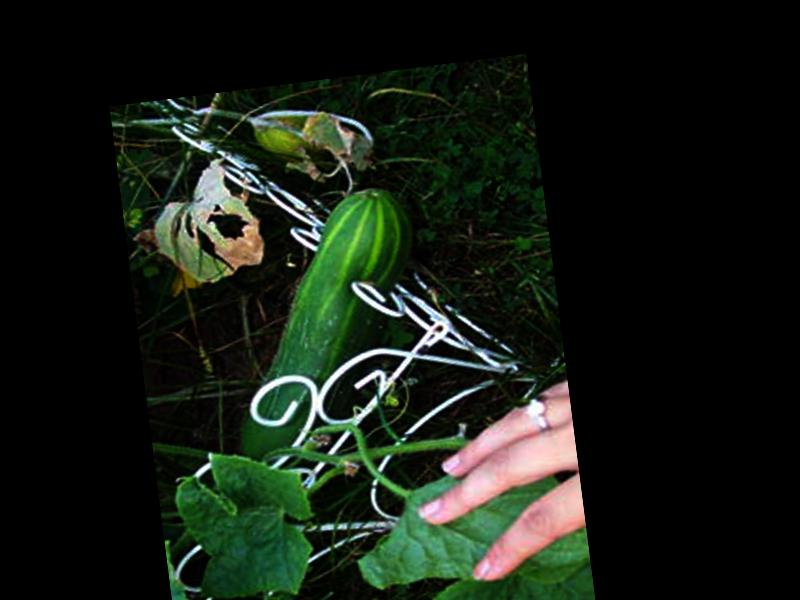Cucumber: (209, 184, 438, 466)
